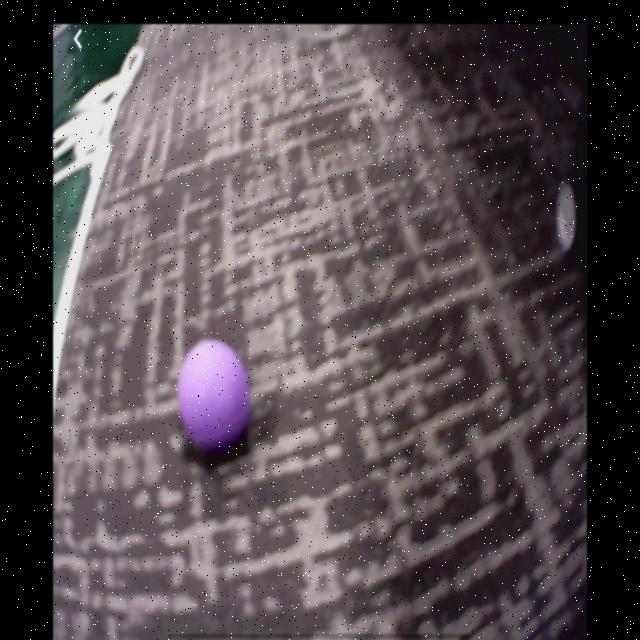ball: (178, 341, 249, 447)
